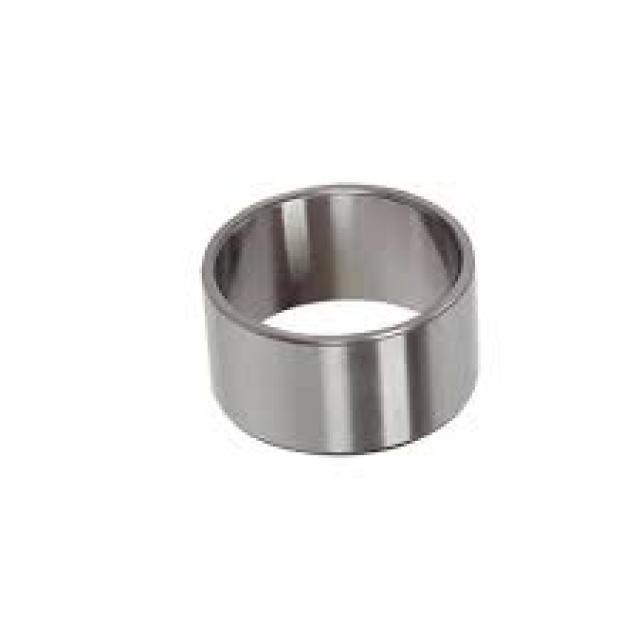Turning: (124, 158, 527, 489)
